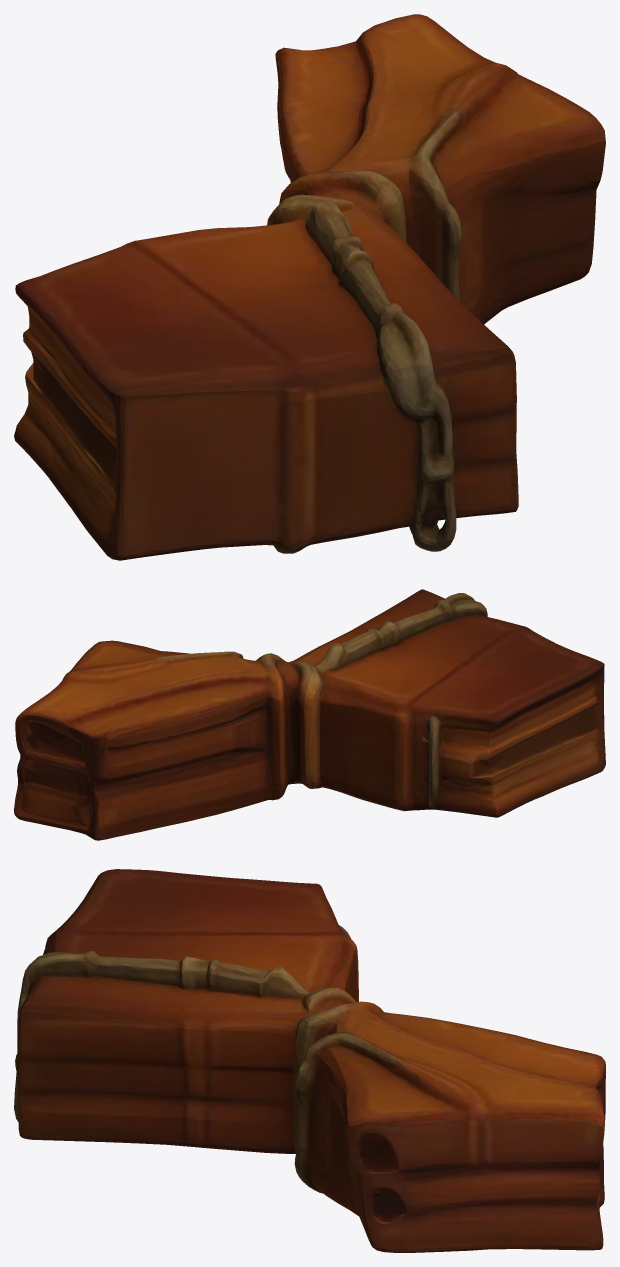
Rendered from books.glb.
3 renders of one model, top to bottom at view 1: azimuth 30°, elevation 25°; view 2: azimuth 150°, elevation 25°; view 3: azimuth 270°, elevation 25°, orthographic. The views are drawn at different scales.
Visible parts, largest first — view 1: world; view 2: world; view 3: world.
Boxes of the visible parts, box(x1,y1,x2,y2) form: world: box(14, 14, 605, 560); world: box(14, 589, 605, 840); world: box(14, 869, 605, 1252).
Bounding box in the file's own units: 0.9994 × 0.3342 × 0.996.
Materials: 1 (1 with a texture image).
